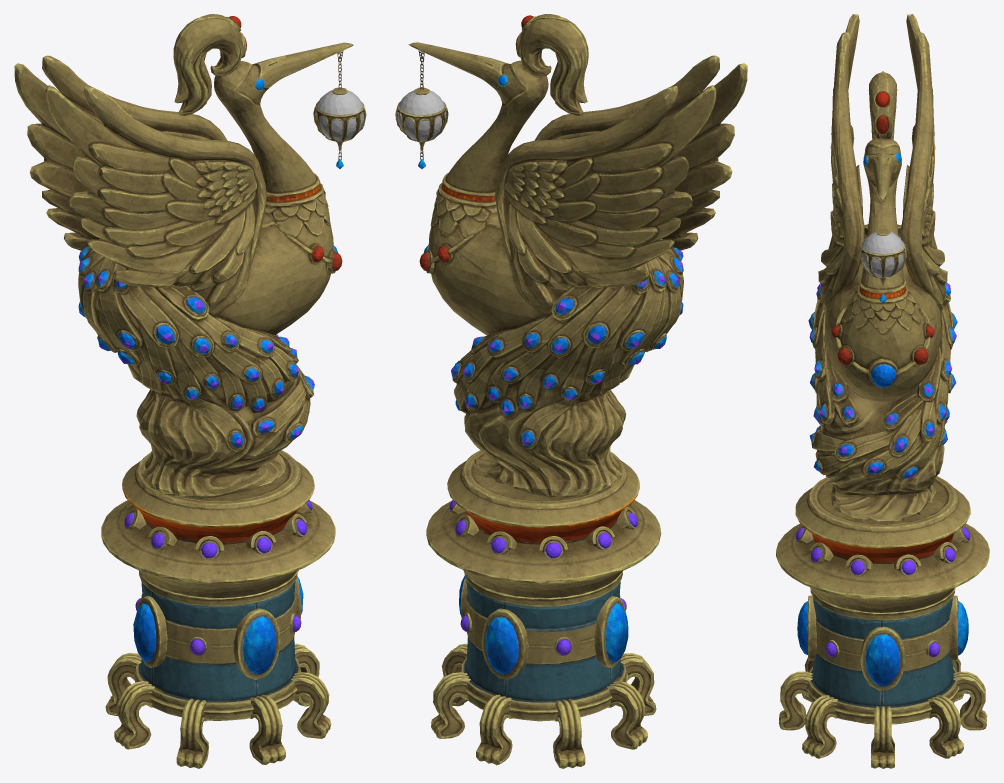
The model's file is Furniture02.fbx.
The picture shows the model from 3 angles, left to right: view 1: azimuth 30°, elevation 25°; view 2: azimuth 150°, elevation 25°; view 3: azimuth 270°, elevation 25°; orthographic projection. The views are drawn at different scales.
Parts seen in each view (by area): view 1: TO14_SM_GRN_Bld_Furniture02.mo; view 2: TO14_SM_GRN_Bld_Furniture02.mo; view 3: TO14_SM_GRN_Bld_Furniture02.mo.
Boxes of the visible parts, x1=… form: TO14_SM_GRN_Bld_Furniture02.mo: x1=14, y1=14, x2=366, y2=768; TO14_SM_GRN_Bld_Furniture02.mo: x1=395, y1=14, x2=747, y2=768; TO14_SM_GRN_Bld_Furniture02.mo: x1=776, y1=14, x2=989, y2=768.
Size of the model in its own units: 197 by 402 by 121.
3 materials, 2 textured.
